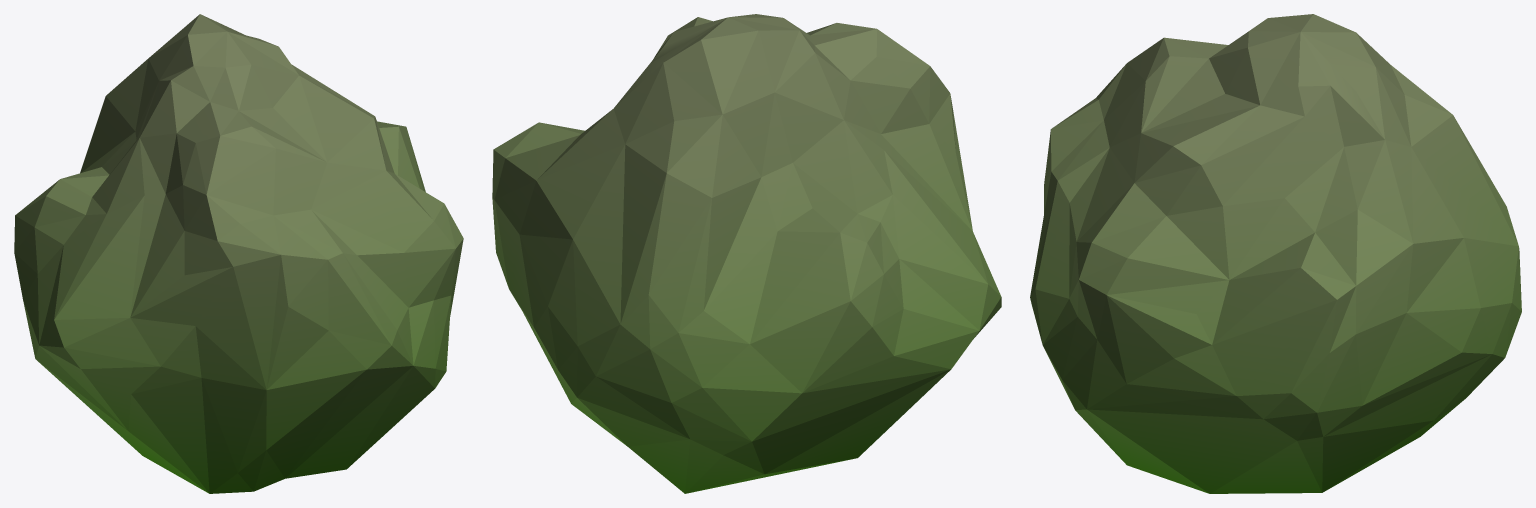
Rendered from synty-plant-hedge-bush-02.gltf.
3 views of the same model, side by side, from view 1: azimuth 30°, elevation 25°; view 2: azimuth 150°, elevation 25°; view 3: azimuth 270°, elevation 25° (orthographic). The views are drawn at different scales.
Visible parts, largest first — view 1: SM_Plant_Hedge_Bush_02; view 2: SM_Plant_Hedge_Bush_02; view 3: SM_Plant_Hedge_Bush_02.
Boxes of the visible parts, x1=… form: SM_Plant_Hedge_Bush_02: x1=14, y1=14, x2=463, y2=493; SM_Plant_Hedge_Bush_02: x1=492, y1=14, x2=1001, y2=493; SM_Plant_Hedge_Bush_02: x1=1030, y1=14, x2=1521, y2=493.
Size of the model in its own units: 1.92 by 1.73 by 1.87.
1 material, 1 textured.
